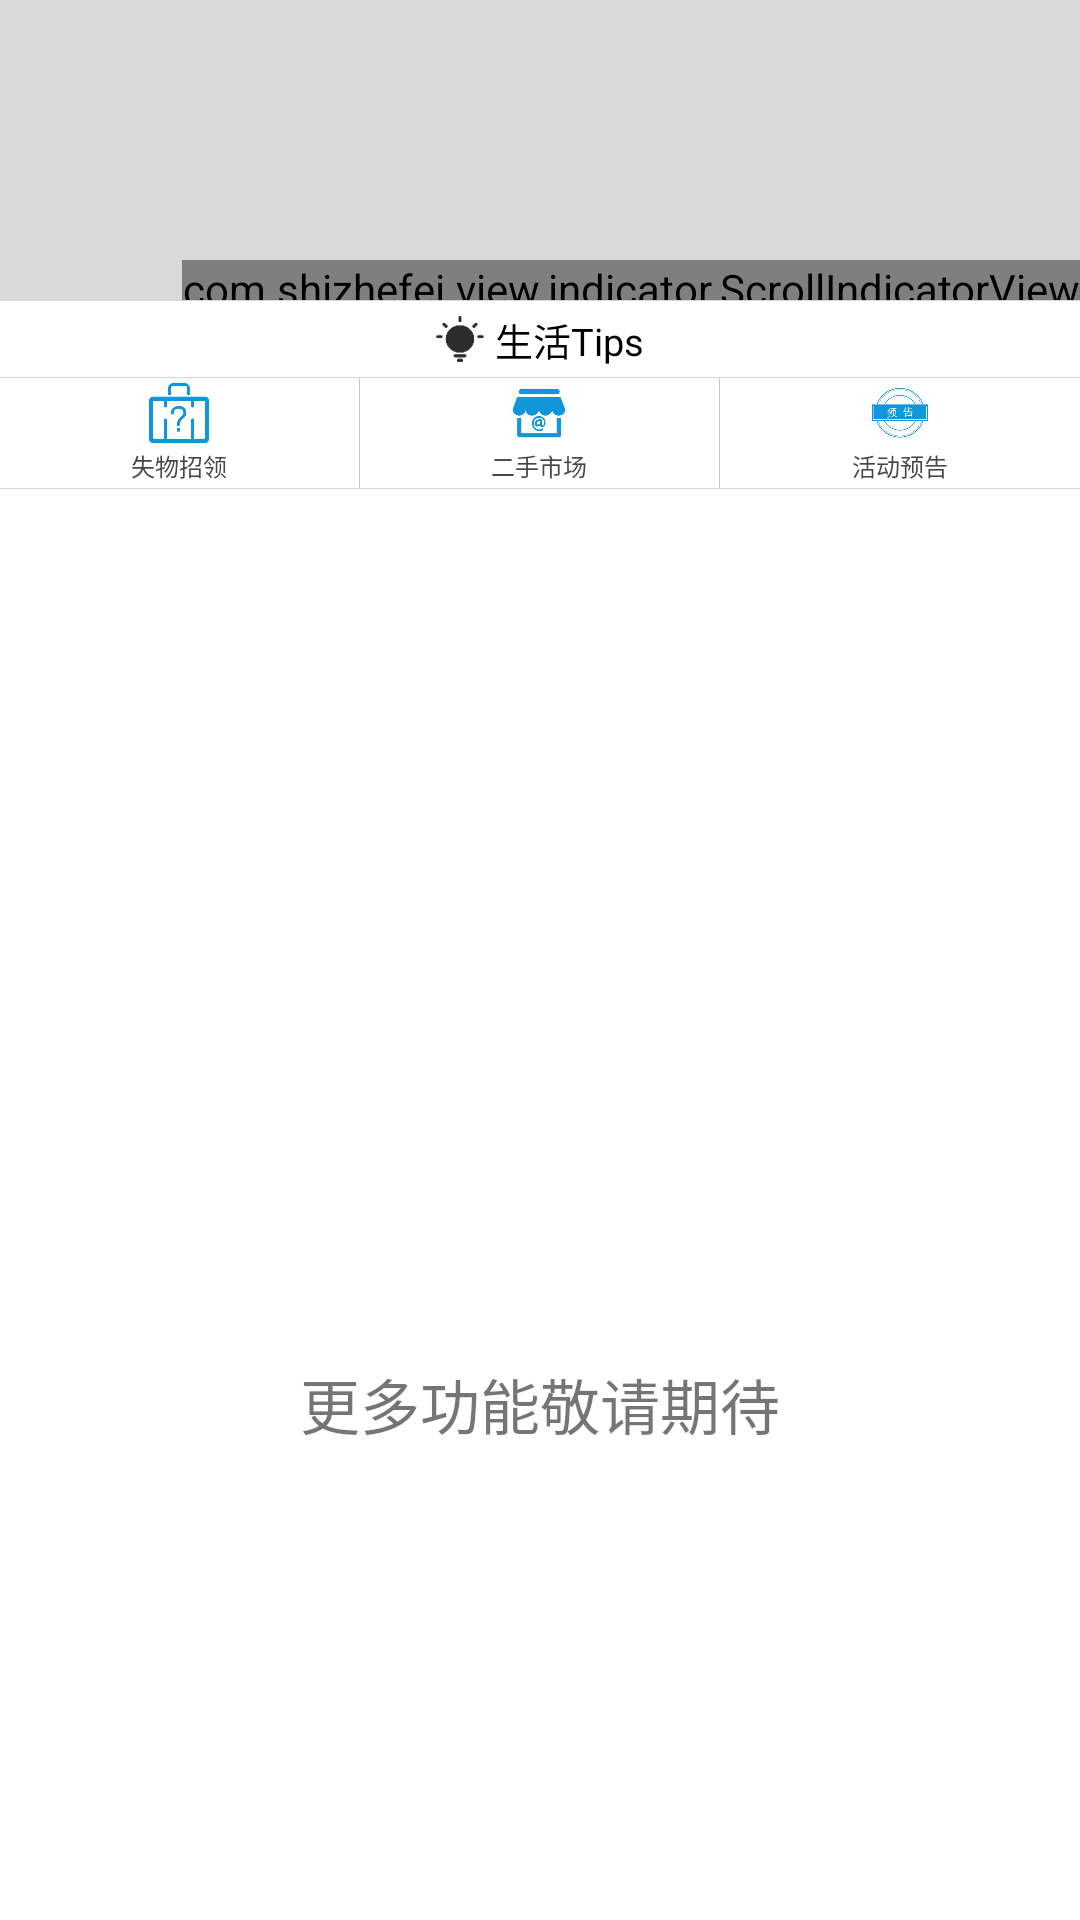

Where icons sit on this 1080px×1920px app screen, as (x1, y1, x2, y2):
life helper: (436, 316, 484, 362)
